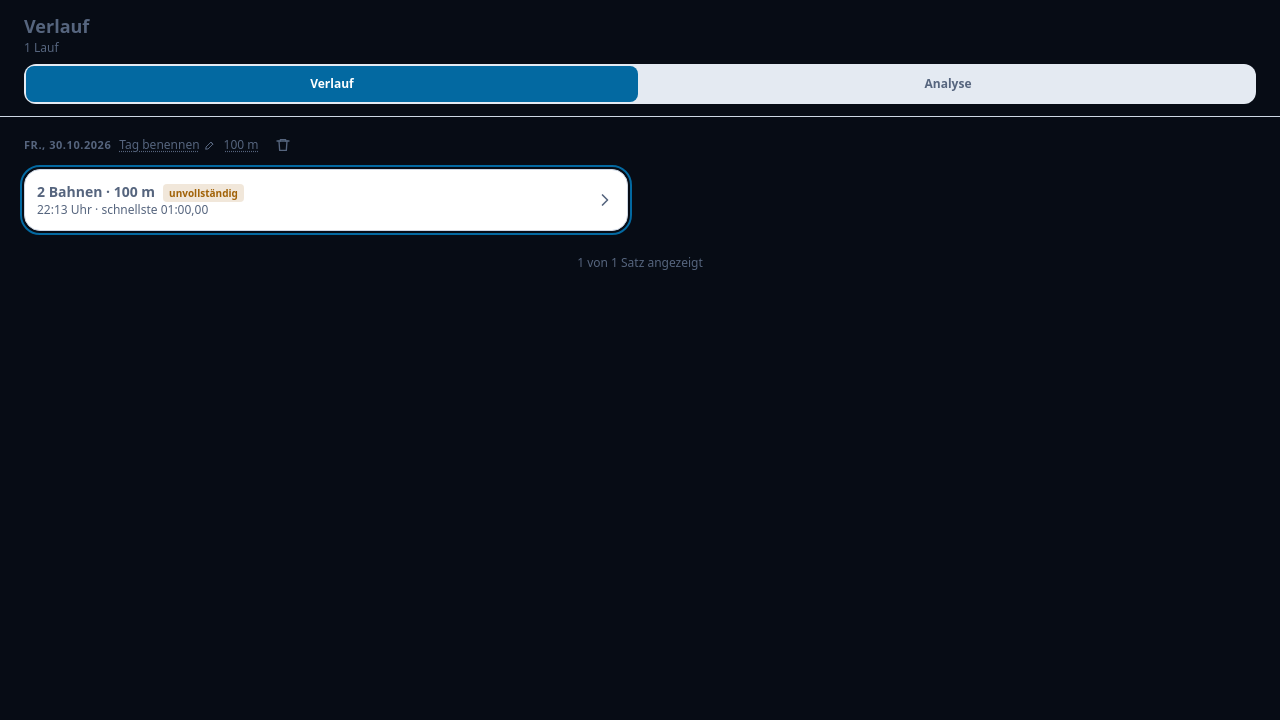
Scenario: LaufDetail › öffnet als Dialog mit Startfokus und hält Tab im Detail
The width and height of the screenshot is (1280, 720).
Click the button that starts with "Bahnen ·".
click(78, 192)  # box [24,169,628,231]
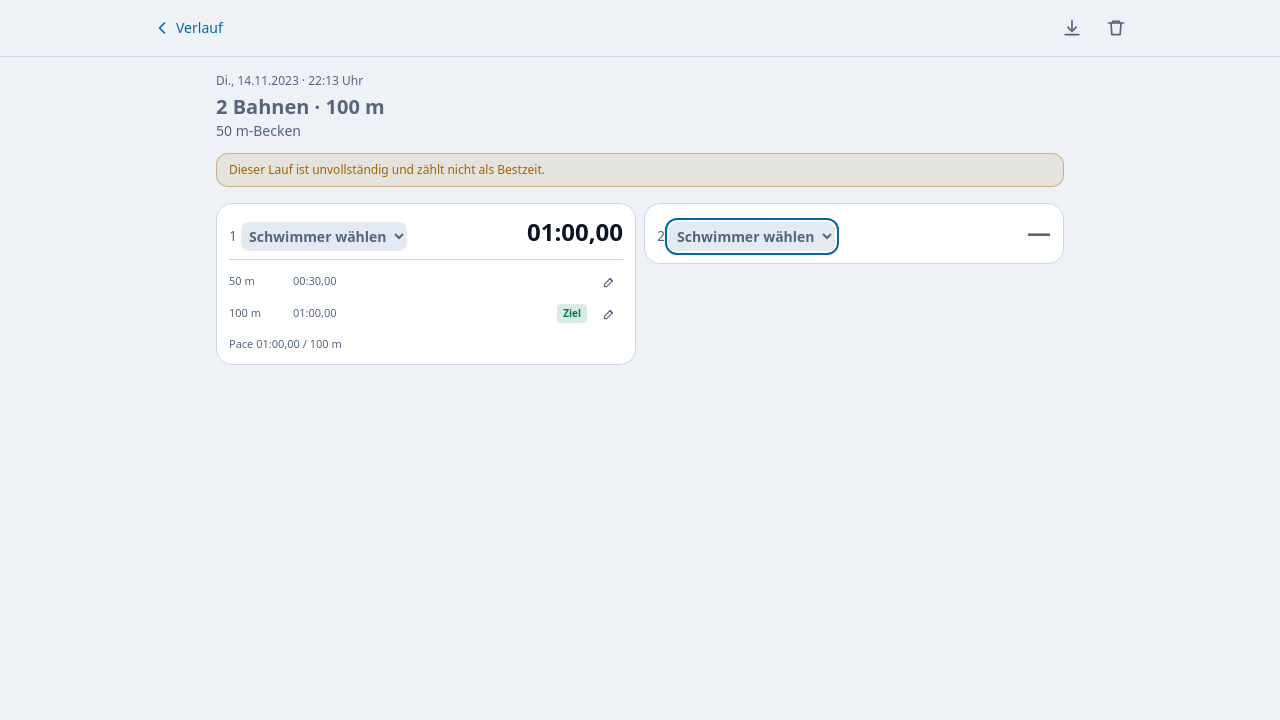
Result: the dialog is shown
Result: the heading "2 Bahnen · 100 m" is shown at [216,93,385,120]
